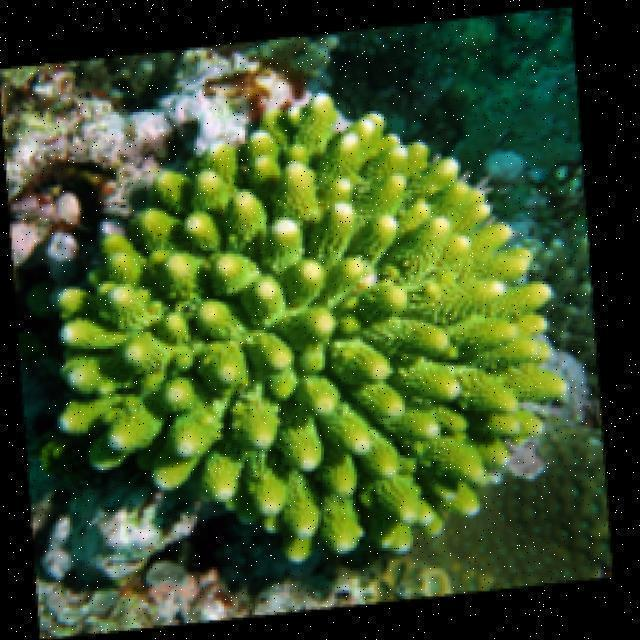Healthy Coral: (48, 97, 583, 578)
